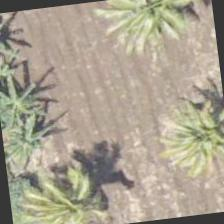Kelapa_Sawit: (15, 146, 116, 223), (148, 78, 223, 178)
